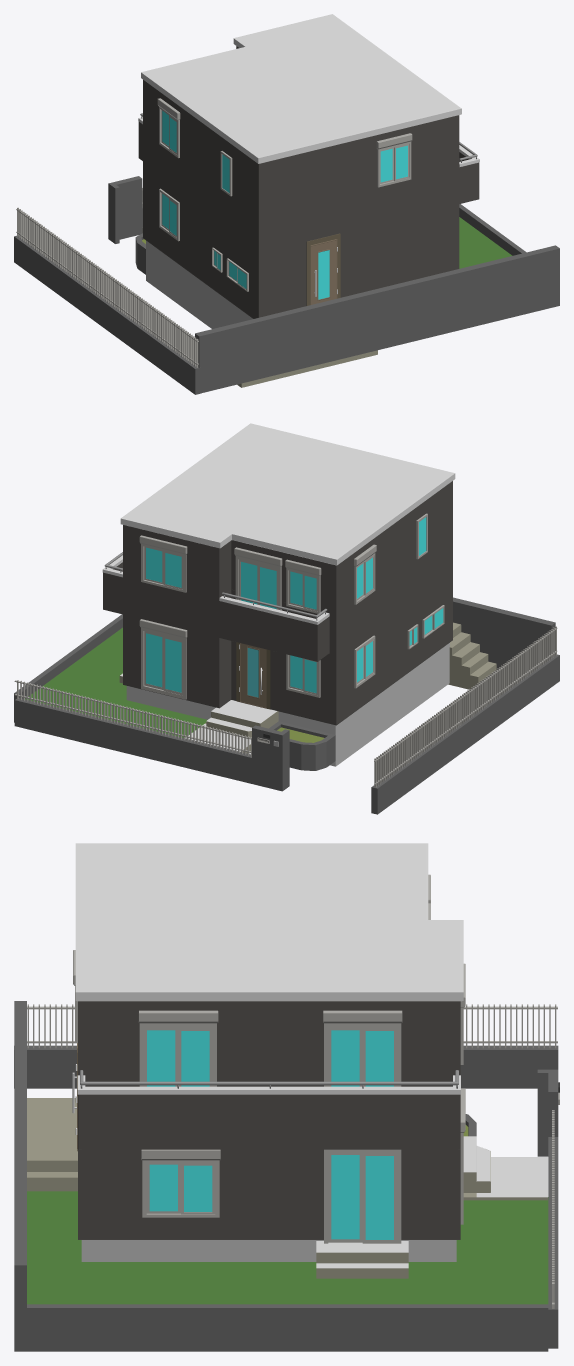
Rendered from jp-modern.glb.
The picture shows the model from 3 angles, top to bottom: view 1: azimuth 30°, elevation 25°; view 2: azimuth 150°, elevation 25°; view 3: azimuth 270°, elevation 25°; orthographic projection. The views are drawn at different scales.
Parts seen in each view (by area): view 1: Baranda_S.001_Balcon_H_0; view 2: Baranda_S.001_Balcon_H_0; view 3: Baranda_S.001_Balcon_H_0.
Boxes of the visible parts, x1=… form: Baranda_S.001_Balcon_H_0: x1=14, y1=14, x2=559, y2=394; Baranda_S.001_Balcon_H_0: x1=14, y1=423, x2=559, y2=814; Baranda_S.001_Balcon_H_0: x1=14, y1=843, x2=559, y2=1351.
Size of the model in its own units: 3.65 by 2 by 3.15.
